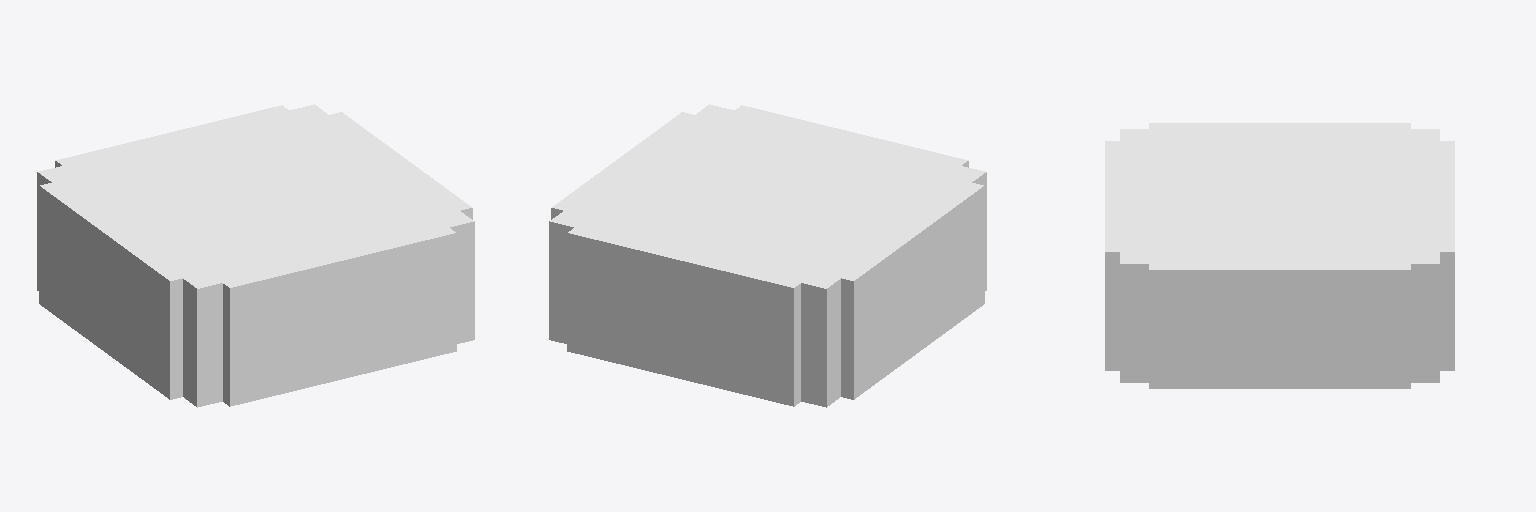
The model's file is pacmanrock.obj.
3 views of the same model, side by side, from view 1: azimuth 30°, elevation 25°; view 2: azimuth 150°, elevation 25°; view 3: azimuth 270°, elevation 25° (orthographic).
Parts seen in each view (by area): view 1: object 1; view 2: object 1; view 3: object 1.
Boxes of the visible parts, <box> form: object 1: <box>37,104,474,407</box>; object 1: <box>549,104,986,407</box>; object 1: <box>1105,123,1454,388</box>.
Size of the model in its own units: 2.4 by 0.9 by 2.4.